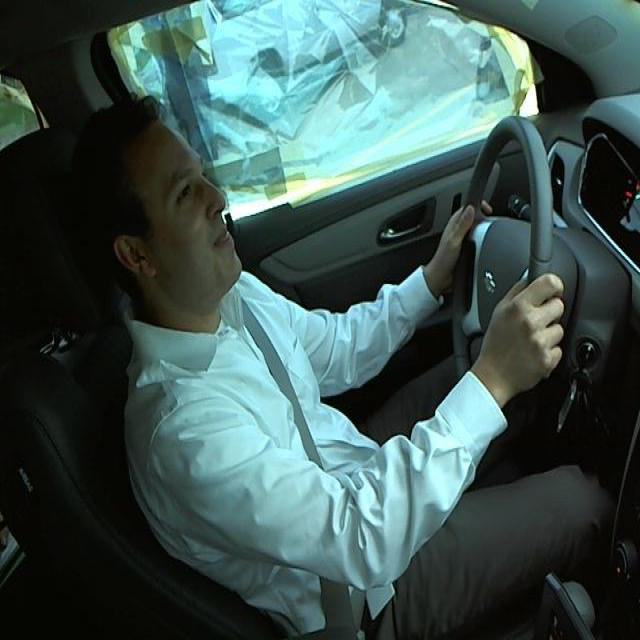seatbelt: (245, 324, 359, 624)
